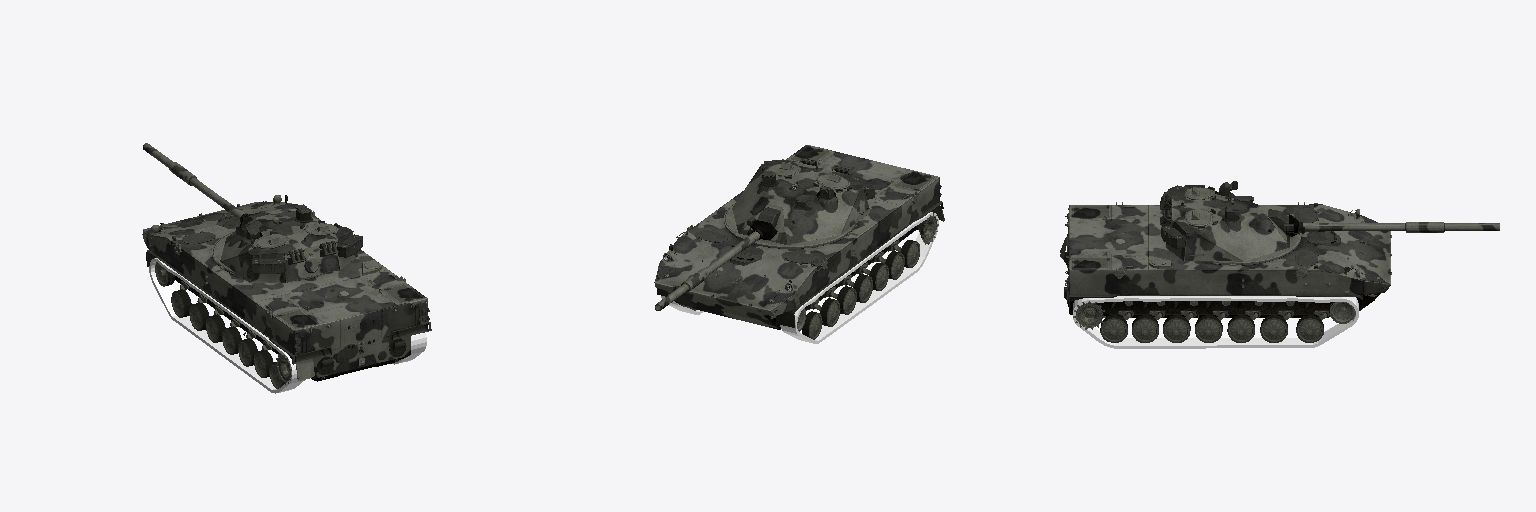
The picture shows the model from 3 angles: view 1: azimuth 30°, elevation 25°; view 2: azimuth 150°, elevation 25°; view 3: azimuth 270°, elevation 25°; orthographic projection.
Visible parts, largest first — view 1: Mesh_0076, tracks; view 2: Mesh_0076, tracks; view 3: Mesh_0076, tracks.
Boxes of the visible parts, x1,y1,x2,y2 form: Mesh_0076: [142, 143, 431, 388]; tracks: [149, 258, 426, 393]; Mesh_0076: [654, 145, 944, 339]; tracks: [661, 212, 938, 343]; Mesh_0076: [1060, 181, 1499, 342]; tracks: [1073, 296, 1358, 348].
Size of the model in its own units: 279 by 226 by 755.
2 materials, 1 textured.